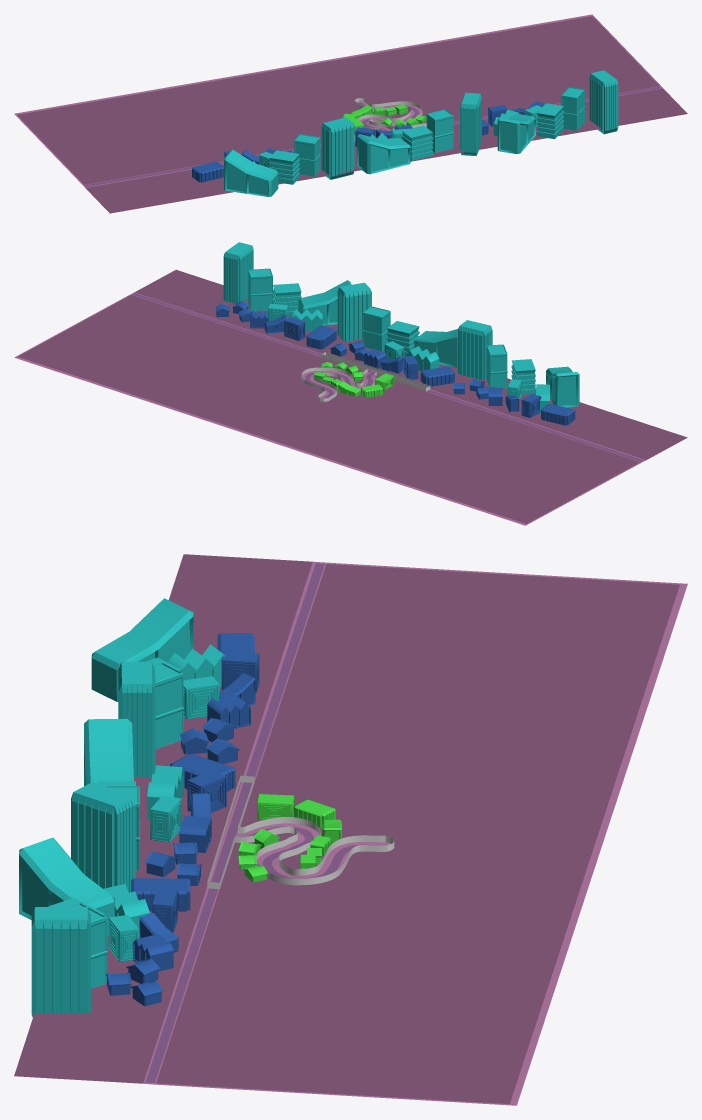
File: Level_1_Road_w_buildings (1).fbx
3 renders of one model, top to bottom at view 1: azimuth 30°, elevation 25°; view 2: azimuth 150°, elevation 25°; view 3: azimuth 270°, elevation 25°, orthographic. The views are drawn at different scales.
Visible parts, largest first — view 1: OutsideFloor, Buildings, Road, InvisibleWall; view 2: OutsideFloor, Buildings, Road, InvisibleWall; view 3: OutsideFloor, Buildings, Road, InvisibleWall.
Boxes of the visible parts, bbox=[...] form: OutsideFloor: bbox=[17, 16, 687, 213]; Buildings: bbox=[192, 70, 618, 196]; Road: bbox=[14, 14, 662, 187]; InvisibleWall: bbox=[354, 98, 426, 141]; OutsideFloor: bbox=[18, 269, 687, 523]; Buildings: bbox=[215, 242, 579, 425]; Road: bbox=[14, 292, 645, 525]; InvisibleWall: bbox=[301, 352, 430, 401]; OutsideFloor: bbox=[14, 554, 679, 1103]; Buildings: bbox=[19, 598, 341, 1017]; Road: bbox=[143, 561, 687, 1105]; InvisibleWall: bbox=[207, 775, 394, 889].
Bounding box in the file's own units: 1409 × 122 × 728.
